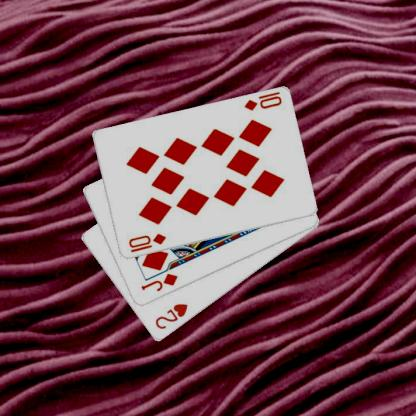10D: (242, 90, 284, 112), (126, 232, 167, 254)
2H: (152, 301, 190, 331)
JD: (138, 271, 180, 294)
